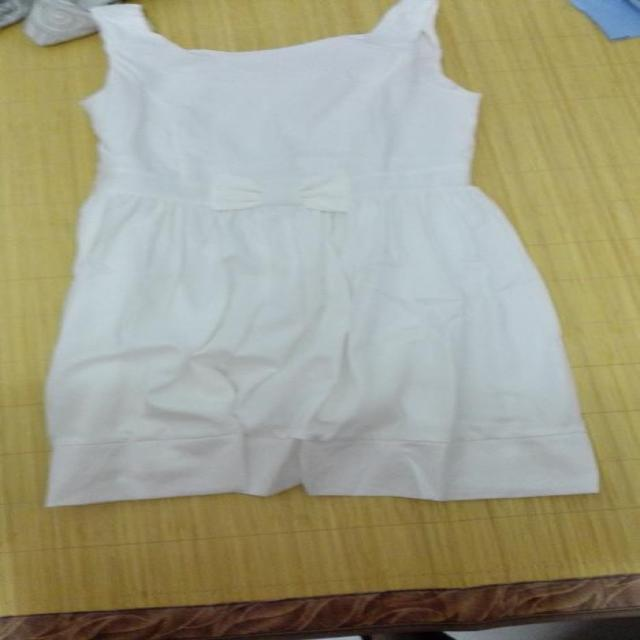short-sleeve-dress: (46, 0, 592, 504)
